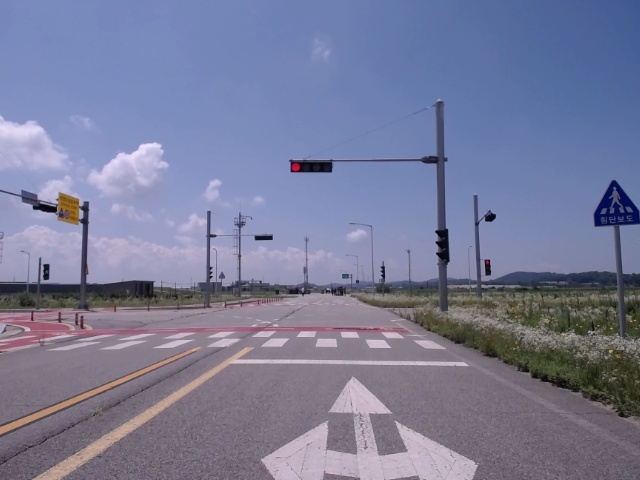red_4: (291, 162, 332, 173)
